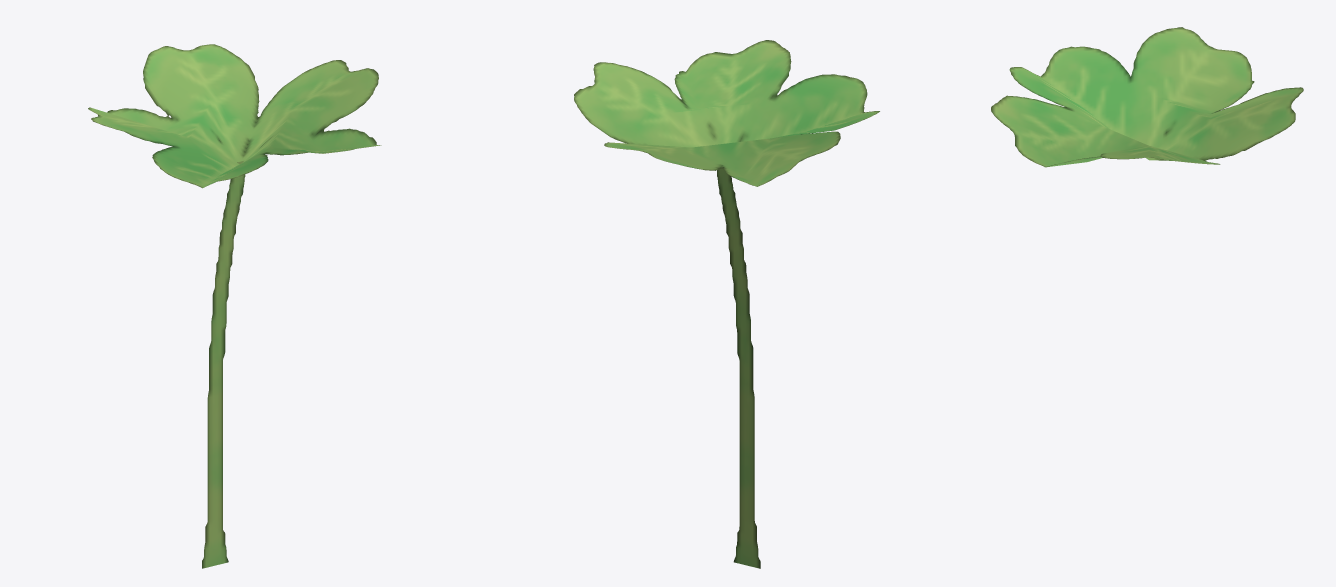
File: LeafSetD_7.fbx
3 renders of one model, left to right at view 1: azimuth 30°, elevation 25°; view 2: azimuth 150°, elevation 25°; view 3: azimuth 270°, elevation 25°, orthographic. The views are drawn at different scales.
Visible parts, largest first — view 1: LeafSetD_7; view 2: LeafSetD_7; view 3: LeafSetD_7.
Part boxes in pixels (x1,y1,x2,y2): LeafSetD_7: (88,44,381,568); LeafSetD_7: (574,40,879,568); LeafSetD_7: (991,27,1303,167).
Bounding box in the file's own units: 0.1708 × 0.2648 × 0.1712.
